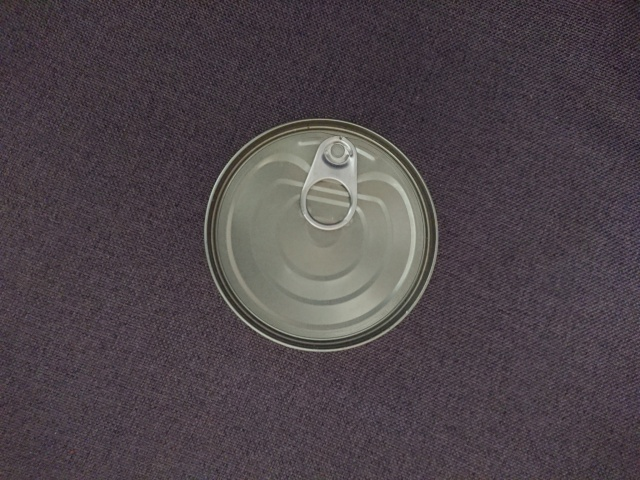Giana Tuna Salad Mexico 185g: (200, 114, 441, 356)
